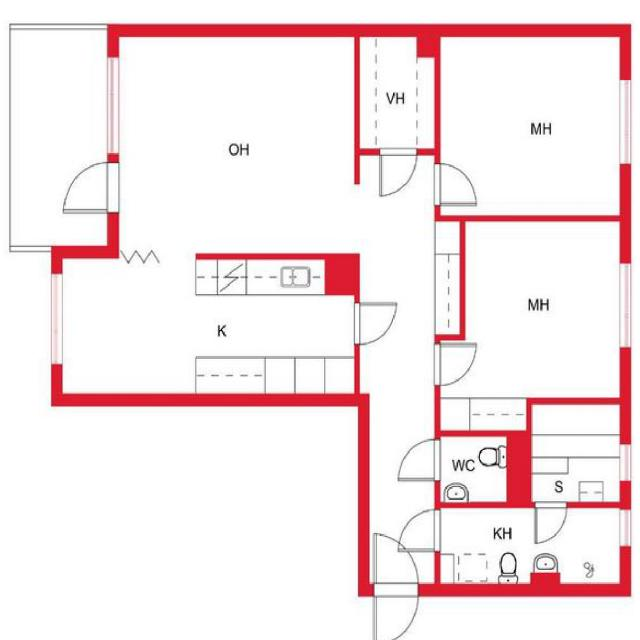door: (63, 162, 119, 213), (375, 535, 418, 596), (375, 584, 418, 640), (380, 149, 417, 196), (399, 510, 441, 551), (436, 344, 477, 386), (436, 164, 477, 205), (400, 439, 441, 480), (356, 302, 396, 344), (536, 502, 566, 541)
